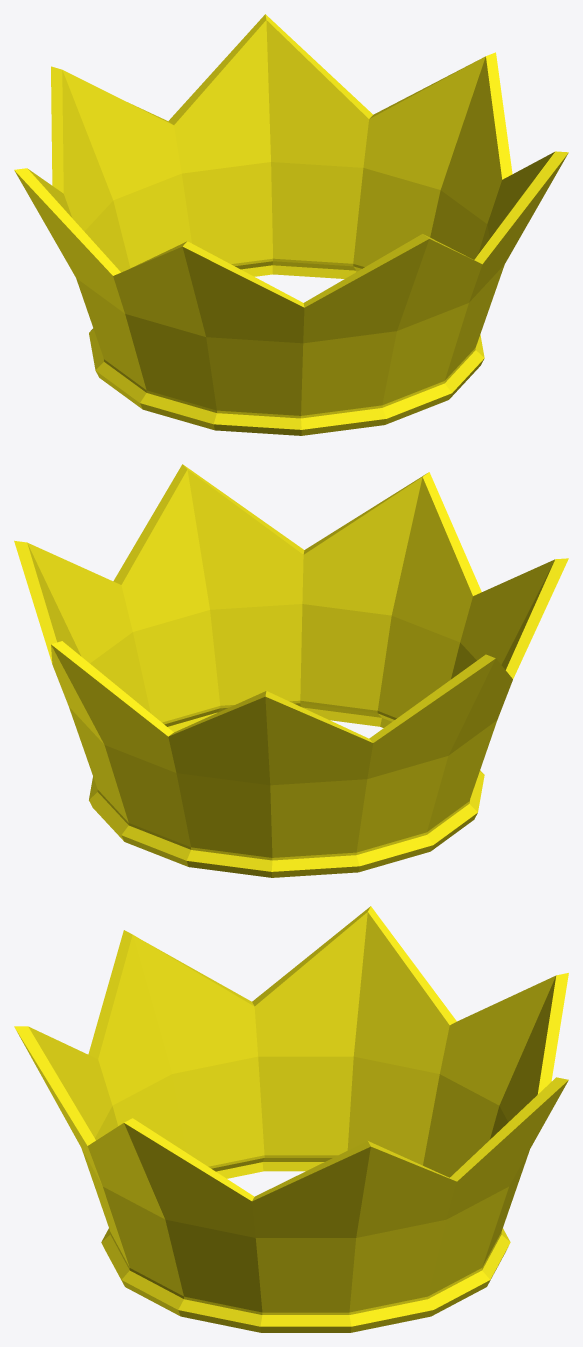
The model's file is crown_model.fbx.
3 renders of one model, top to bottom at view 1: azimuth 30°, elevation 25°; view 2: azimuth 150°, elevation 25°; view 3: azimuth 270°, elevation 25°, orthographic. The views are drawn at different scales.
Visible parts, largest first — view 1: crown_2; view 2: crown_2; view 3: crown_2.
Part boxes in pixels (left/top/right/bottom): crown_2: left=14, top=14, right=568, bottom=435; crown_2: left=14, top=464, right=568, bottom=877; crown_2: left=14, top=906, right=568, bottom=1332.
Bounding box in the file's own units: 223 × 96.89 × 218.
